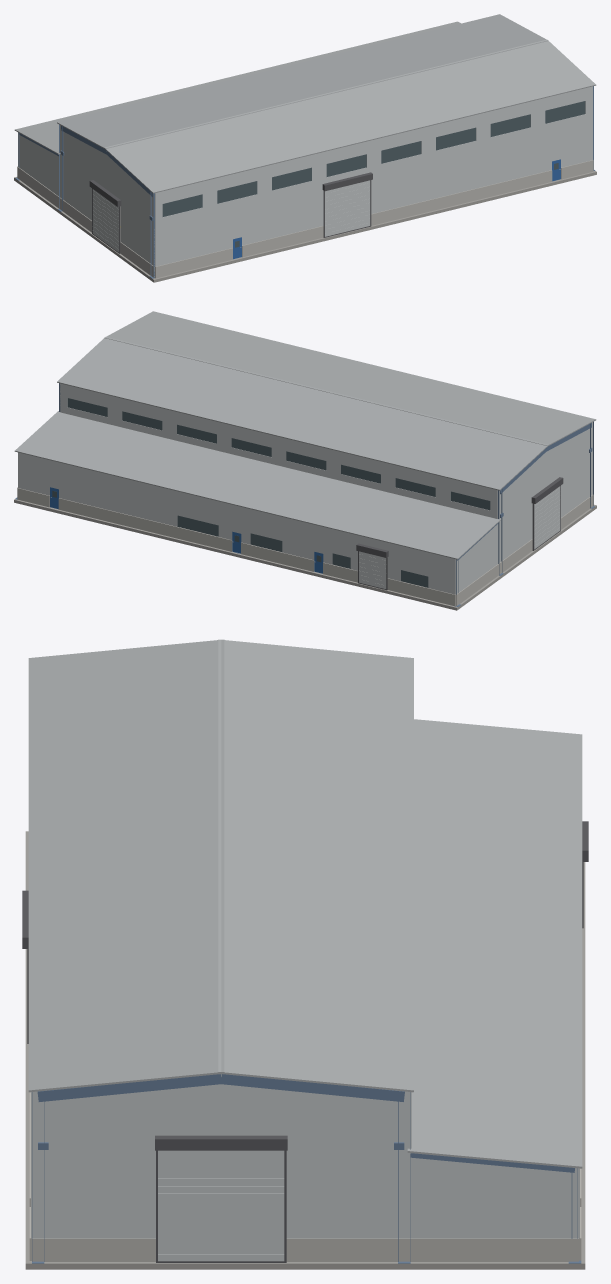
File: SM_Workshops.fbx
3 renders of one model, top to bottom at view 1: azimuth 30°, elevation 25°; view 2: azimuth 150°, elevation 25°; view 3: azimuth 270°, elevation 25°, orthographic. The views are drawn at different scales.
Parts seen in each view (by area): view 1: WS_Roof, WS_Walls, WS_Floor, WS_Shutter_South, WS_Structure, WS_Shutter_West, WS_DoorFrames; view 2: WS_Roof, WS_Walls, WS_Floor, WS_Shutter_West, WS_Structure, WS_Shutter_ElecOuter, WS_DoorFrames; view 3: WS_Roof, WS_Walls, WS_Shutter_East, WS_Floor, WS_Structure, WS_DoorFrames.
Boxes of the visible parts, <box> form: WS_Roof: <box>14,14,596,193</box>; WS_Walls: <box>17,86,593,278</box>; WS_Floor: <box>14,170,596,282</box>; WS_Shutter_South: <box>325,180,370,237</box>; WS_Structure: <box>15,86,594,278</box>; WS_Shutter_West: <box>92,189,118,253</box>; WS_DoorFrames: <box>89,172,372,253</box>; WS_Roof: <box>14,311,596,559</box>; WS_Walls: <box>17,383,593,606</box>; WS_Floor: <box>14,499,596,610</box>; WS_Shutter_West: <box>534,486,560,549</box>; WS_Structure: <box>15,383,594,606</box>; WS_Shutter_ElecOuter: <box>359,551,386,589</box>; WS_DoorFrames: <box>356,477,563,590</box>; WS_Roof: <box>28,639,582,1168</box>; WS_Walls: <box>29,1074,581,1261</box>; WS_Shutter_East: <box>158,1150,284,1262</box>; WS_Floor: <box>25,831,585,1269</box>; WS_Structure: <box>32,1074,581,1263</box>; WS_DoorFrames: <box>22,821,588,1262</box>.
Size of the model in its own units: 4890 by 1036 by 2690.
